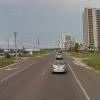Car: (44, 46, 71, 84)
